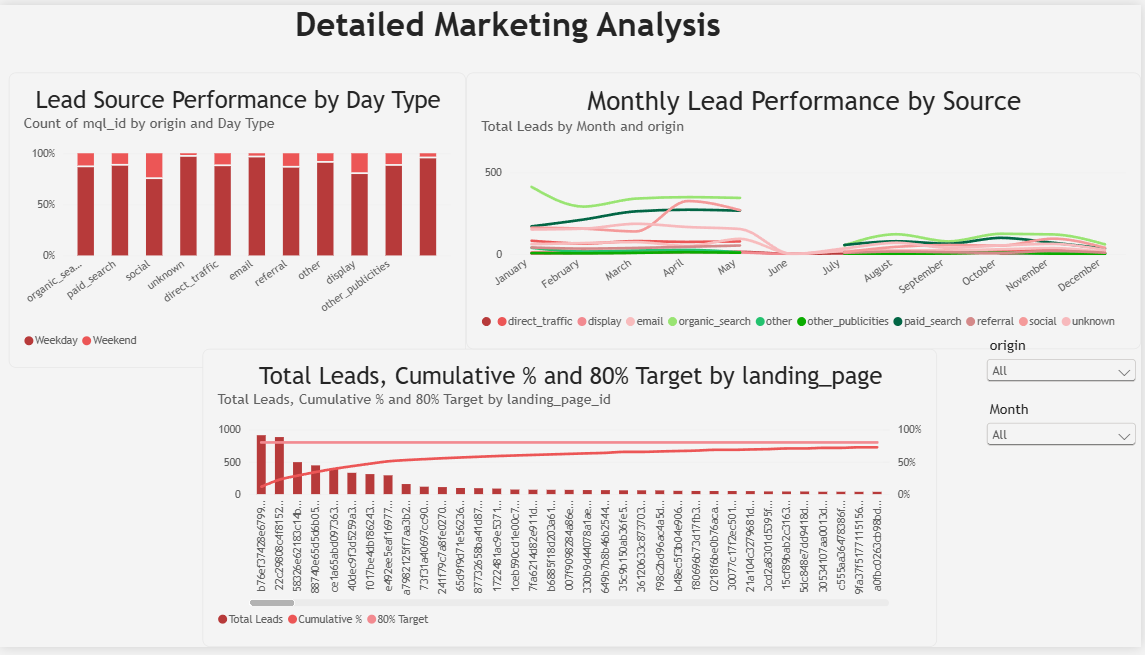

The dashboard page shown, as its layout file describes it:
{"tool":"powerbi","page":{"name":"Detailed Marketing Analysis","canvas":[1280,720],"ordinal":1},"visuals":[{"type":"textbox","box":[317.1,0,505.7,60],"z":0},{"type":"hundredPercentStackedColumnChart","title":"Lead Source Performance by Day Type","fields":{"Category":["olist_marketing_leads.origin"],"Y":["CountNonNull(olist_marketing_leads.mql_id)"],"Series":["olist_marketing_leads.Day Type"]},"box":[10,75.7,512.9,331.4],"z":1000},{"type":"lineClusteredColumnComboChart","title":"Total Leads, Cumulative % and 80% Target by landing_page","fields":{"Category":["olist_marketing_leads.landing_page_id"],"Y":["olist_marketing_leads.Total Leads"],"Y2":["olist_marketing_leads.Cumulative %","olist_marketing_leads.80% Target"]},"box":[227.1,385.7,824.3,334.3],"z":2000},{"type":"lineChart","title":"Monthly Lead Performance by Source","fields":{"Category":["olist_marketing_leads.Month.Variation.Date Hierarchy.Month"],"Y":["olist_marketing_leads.Total Leads"],"Series":["olist_marketing_leads.origin"]},"box":[522.9,75.7,757.1,310],"z":3000},{"type":"slicer","fields":{"Values":["olist_marketing_leads.origin"]},"box":[1102.9,371.4,177.1,71.4],"z":4000},{"type":"slicer","fields":{"Values":["olist_marketing_leads.Month"]},"box":[1102.9,442.9,177.1,74.3],"z":5000}]}

Visuals, with their boxes in screenshot pixels (x1, y1, x2, y2), scaled from the page's 1280x720 canvas onto the 1145x655 screenshot:
textbox: BBox(284, 0, 736, 55)
"Lead Source Performance by Day Type" hundredPercentStackedColumnChart: BBox(9, 69, 468, 370)
"Total Leads, Cumulative % and 80% Target by landing_page" lineClusteredColumnComboChart: BBox(203, 351, 941, 654)
"Monthly Lead Performance by Source" lineChart: BBox(468, 69, 1144, 351)
slicer - olist_marketing_leads.origin: BBox(987, 338, 1144, 403)
slicer - olist_marketing_leads.Month: BBox(987, 403, 1144, 471)
